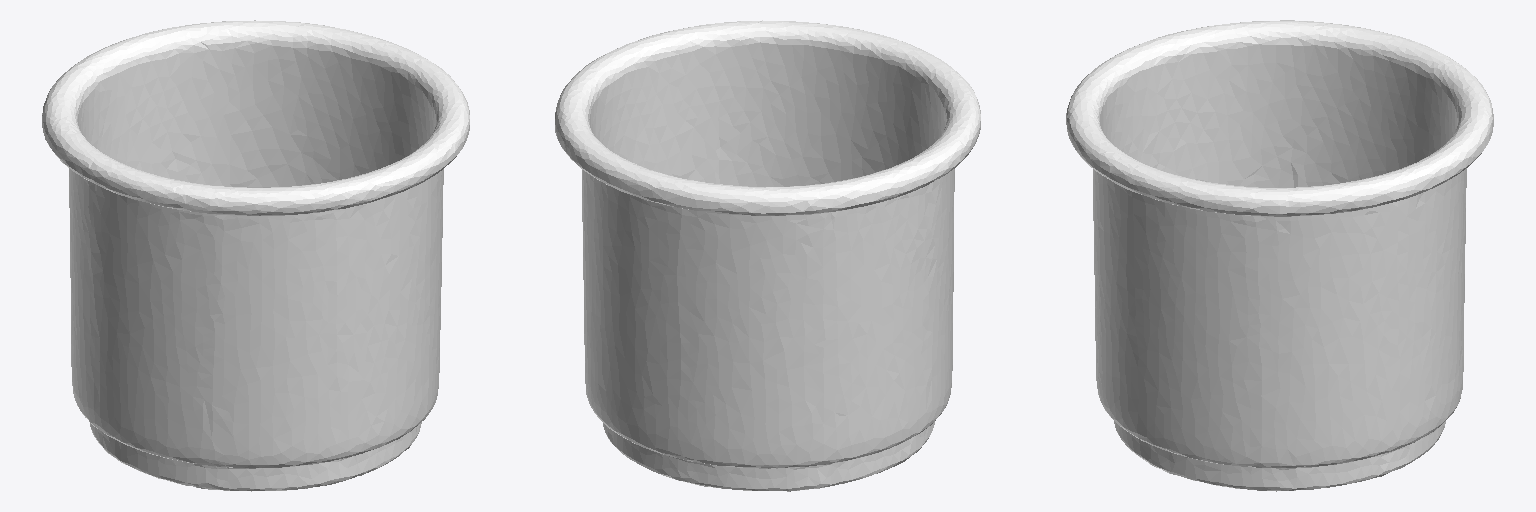
The robot description file, URDF, robot "024_bowl":
<robot name="024_bowl">
	<link name="_name">
		<visual>
			<origin xyz="0.1427248568330144 0.45728422080814235 -0.26772347862895074" rpy="0 0 0" />
			<geometry>
				<mesh filename="024_bowl/google_16k/textured.obj" scale="10 10 10" />
			</geometry>
			<material name="texture">
				<color rgba="1.0 1.0 1.0 1.0" />
			</material>
		</visual>
		<collision>
			<geometry>
				<mesh filename="024_bowl/google_16k/textured_vhacd.obj" scale="10 10 10" />
			</geometry>
		<origin xyz="0.1427248568330144 0.45728422080814235 -0.26772347862895074" rpy="0 0 0" /></collision>
		<inertial>
			<mass value="1.0" />
			<inertia ixx="1.0" ixy="0.0" ixz="0.0" iyy="1.0" iyz="0.0" izz="1.0" />
		</inertial>
	</link>
</robot>

--- Facts derived from the render (not from the file) ---
Views: 3 orthographic renders of the robot side by side, from view 1: azimuth 30°, elevation 25°; view 2: azimuth 150°, elevation 25°; view 3: azimuth 270°, elevation 25°.
Model 024_bowl with 1 links and 0 joints (none), rooted at _name, posed all joints at 0.
Links seen in each view (by area): view 1: _name; view 2: _name; view 3: _name.
Link boxes in pixels (x1,y1,x2,y2): _name: (42, 20, 469, 491); _name: (555, 20, 980, 491); _name: (1066, 20, 1493, 491).
Size in the robot's own frame: 0.915 by 0.9162 by 0.7506 metres.
Meshes: 1 distinct files referenced, 1 mesh visuals loaded (1 OBJ).